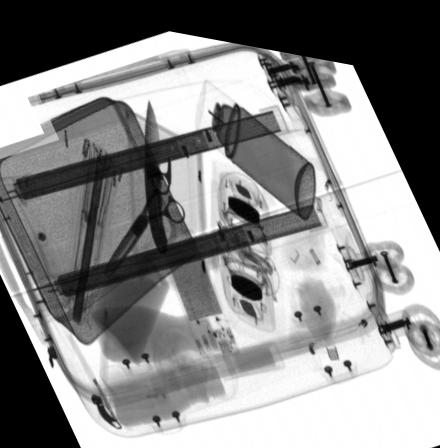Knife: (144, 91, 166, 248)
Powerbank: (156, 223, 240, 345)
Scissors: (101, 147, 184, 279)
Sprayer: (194, 71, 315, 210)
